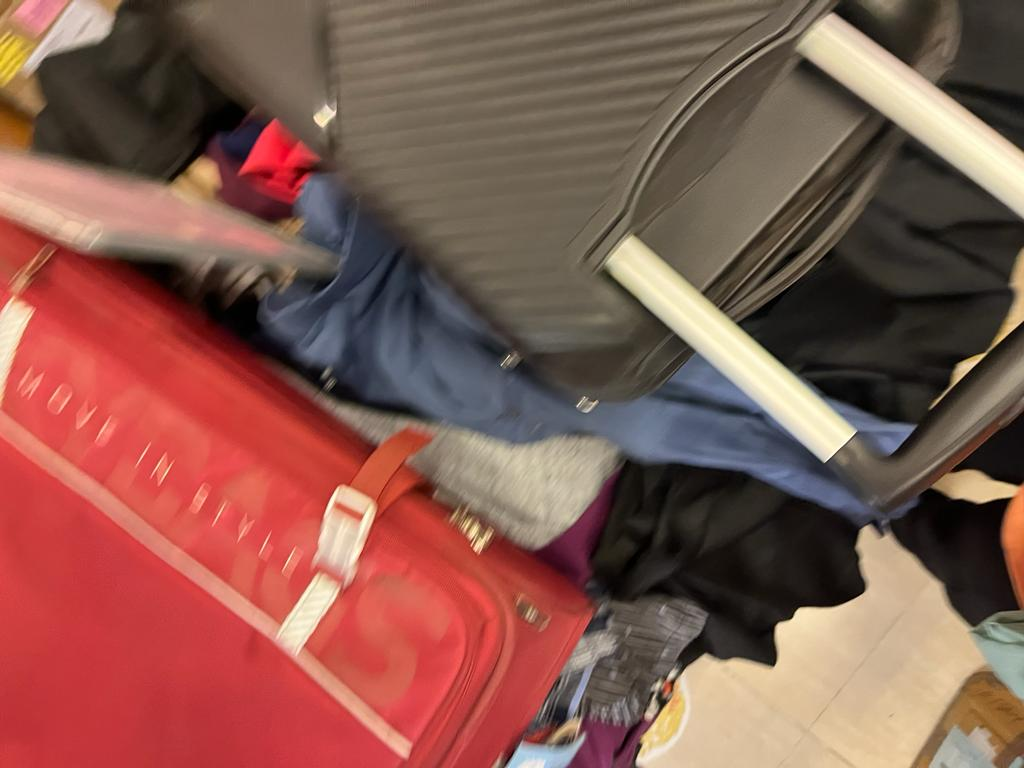Bag: (152, 0, 1024, 520), (0, 202, 622, 768)
Handle: (602, 11, 1024, 535)
